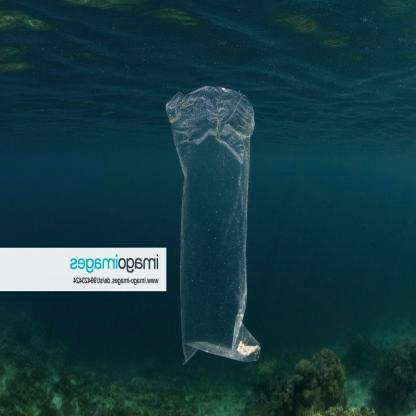pbag: (157, 79, 271, 372)
